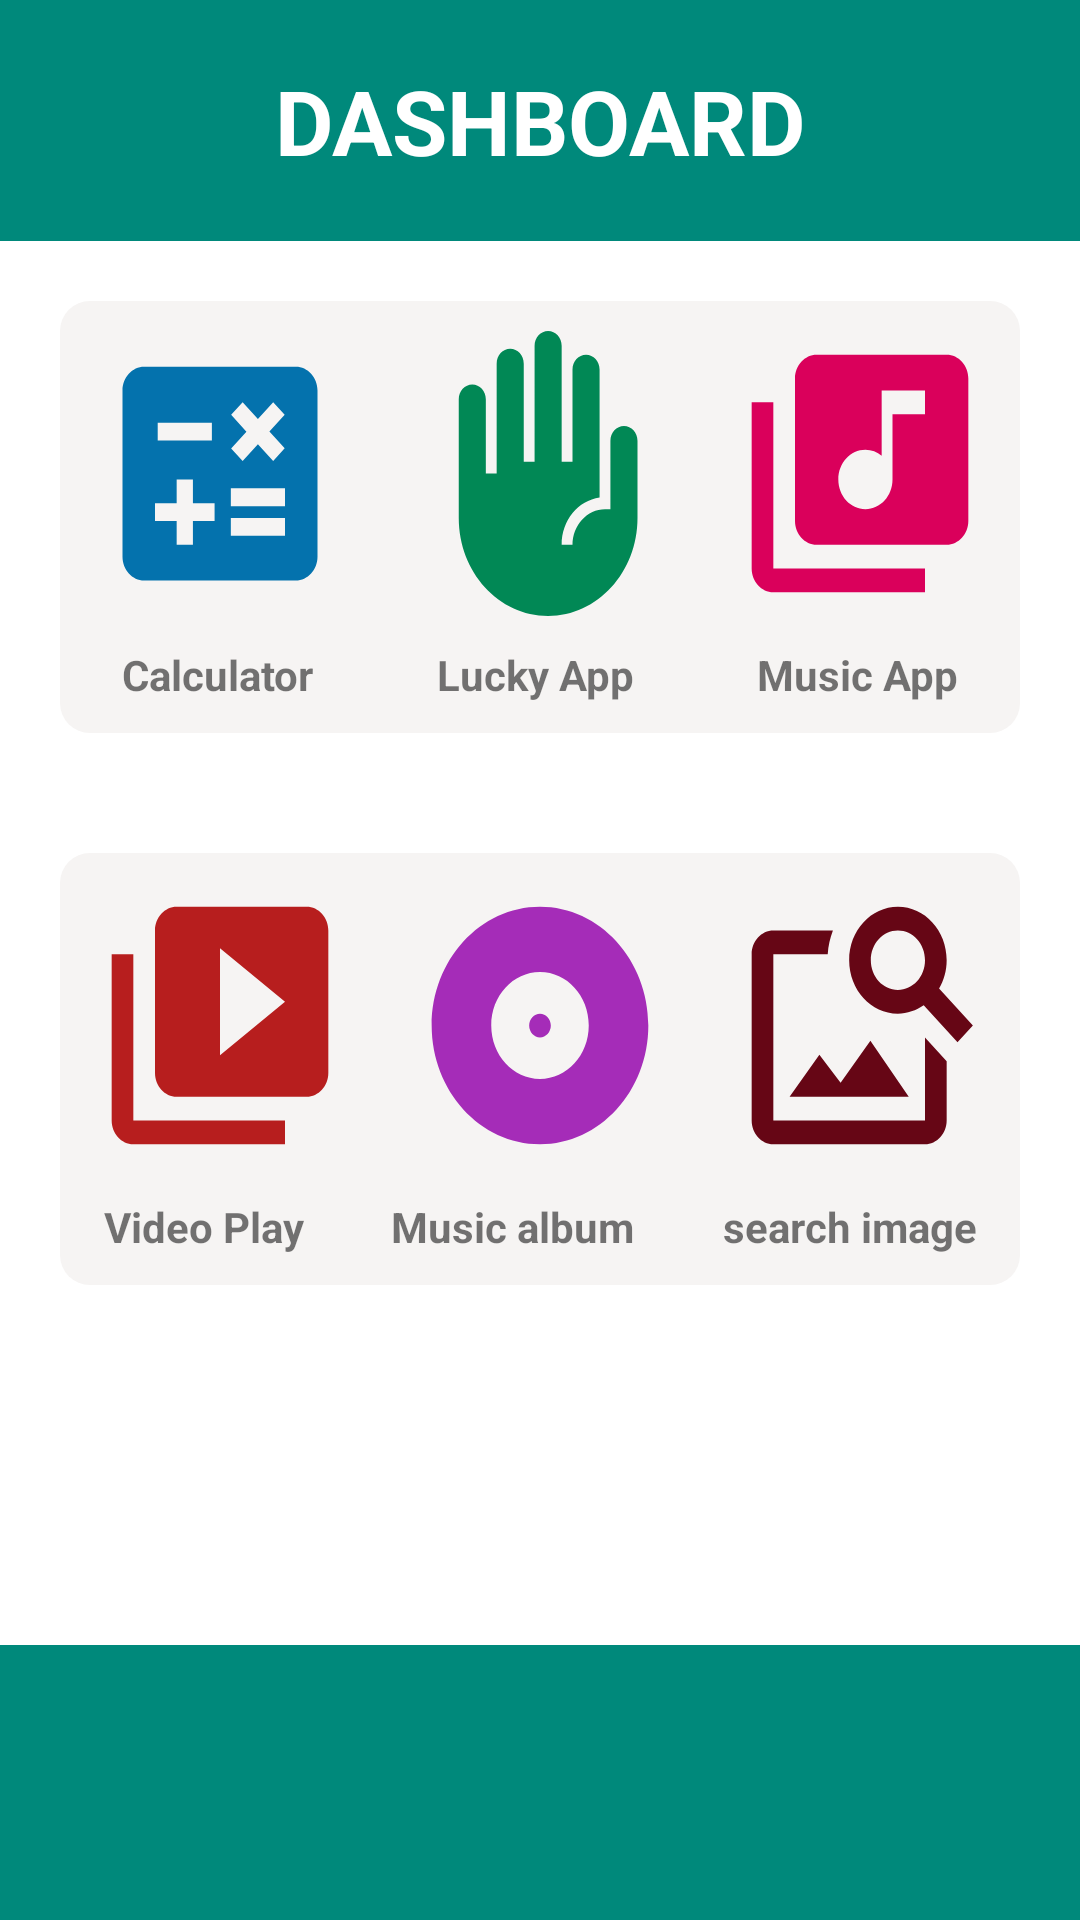

Named icons in this screenshot (1080w x 1920h) and their centers, point (x, y):
caclupro: point (220, 473)
videoicon: point (220, 1025)
